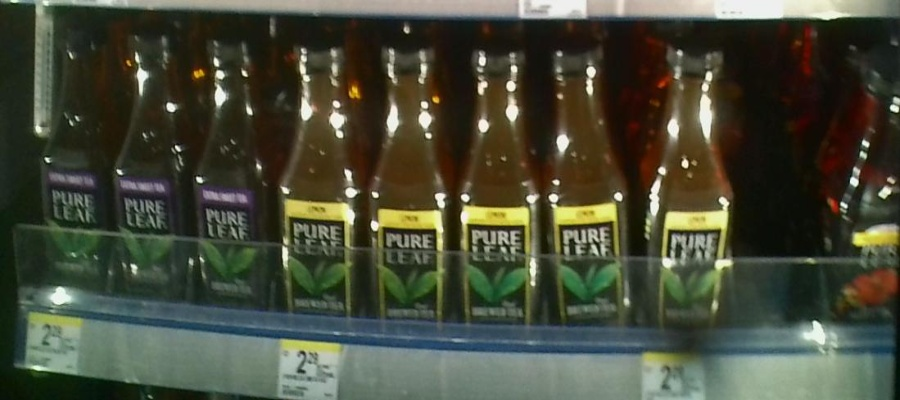bottle: (640, 29, 736, 341), (545, 24, 631, 343), (457, 35, 541, 351), (278, 34, 364, 341), (367, 47, 455, 340), (191, 26, 274, 331), (37, 10, 113, 317), (115, 31, 185, 331), (834, 55, 900, 347)
